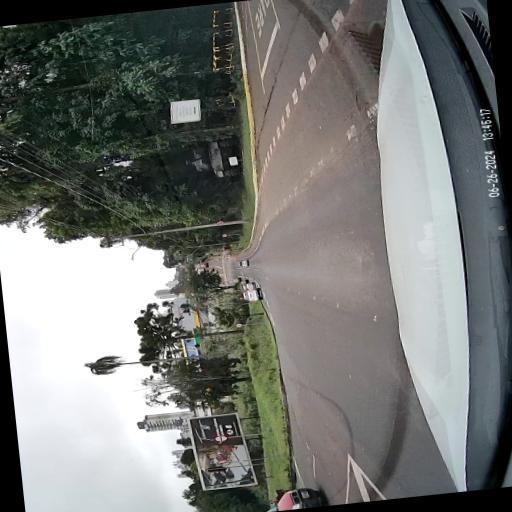R-24a: (214, 435, 228, 441)
